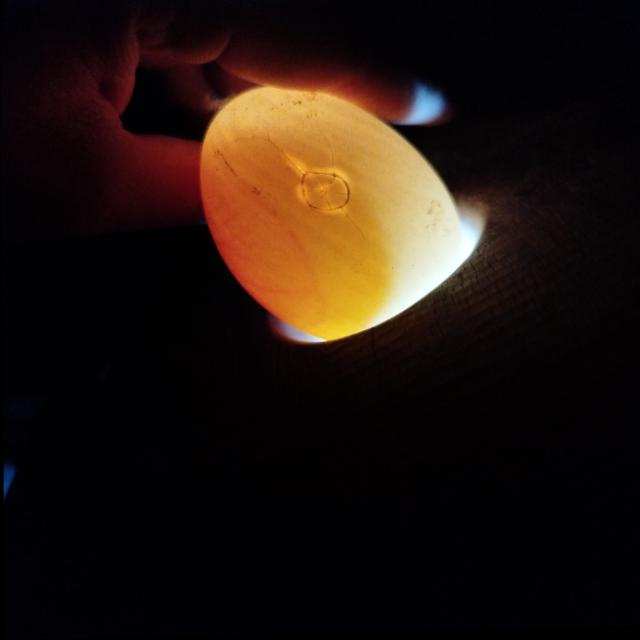Rachadura: (301, 174, 348, 211)
